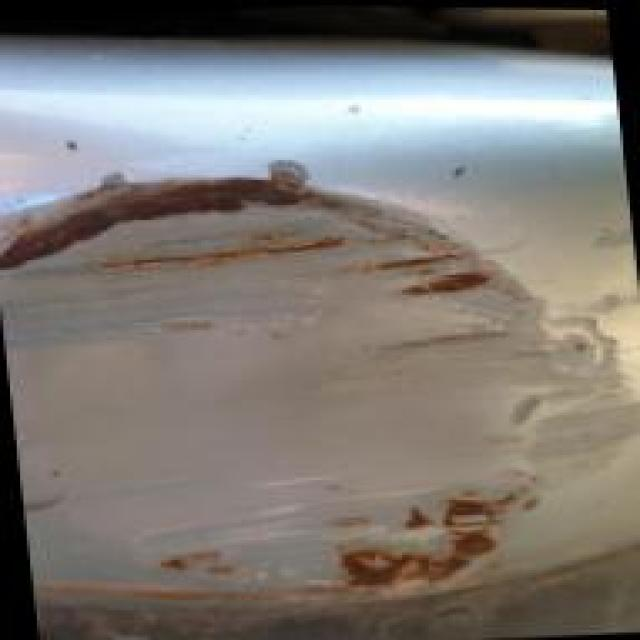Door: (0, 80, 640, 640)
